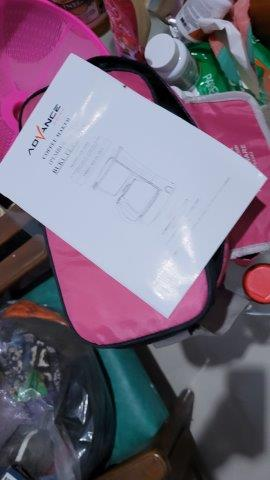kertas: (1, 53, 267, 318)
